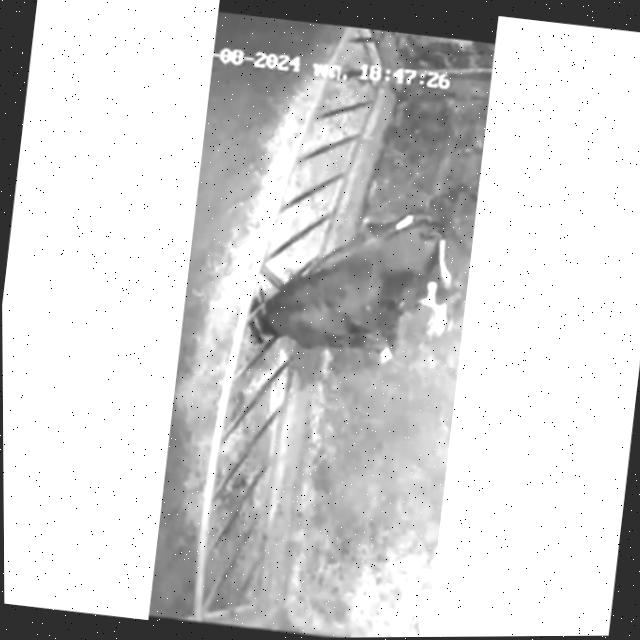eat: (190, 237, 349, 360)
